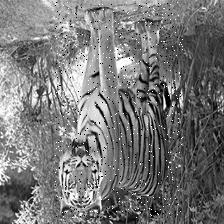tiger: (55, 1, 183, 217)
